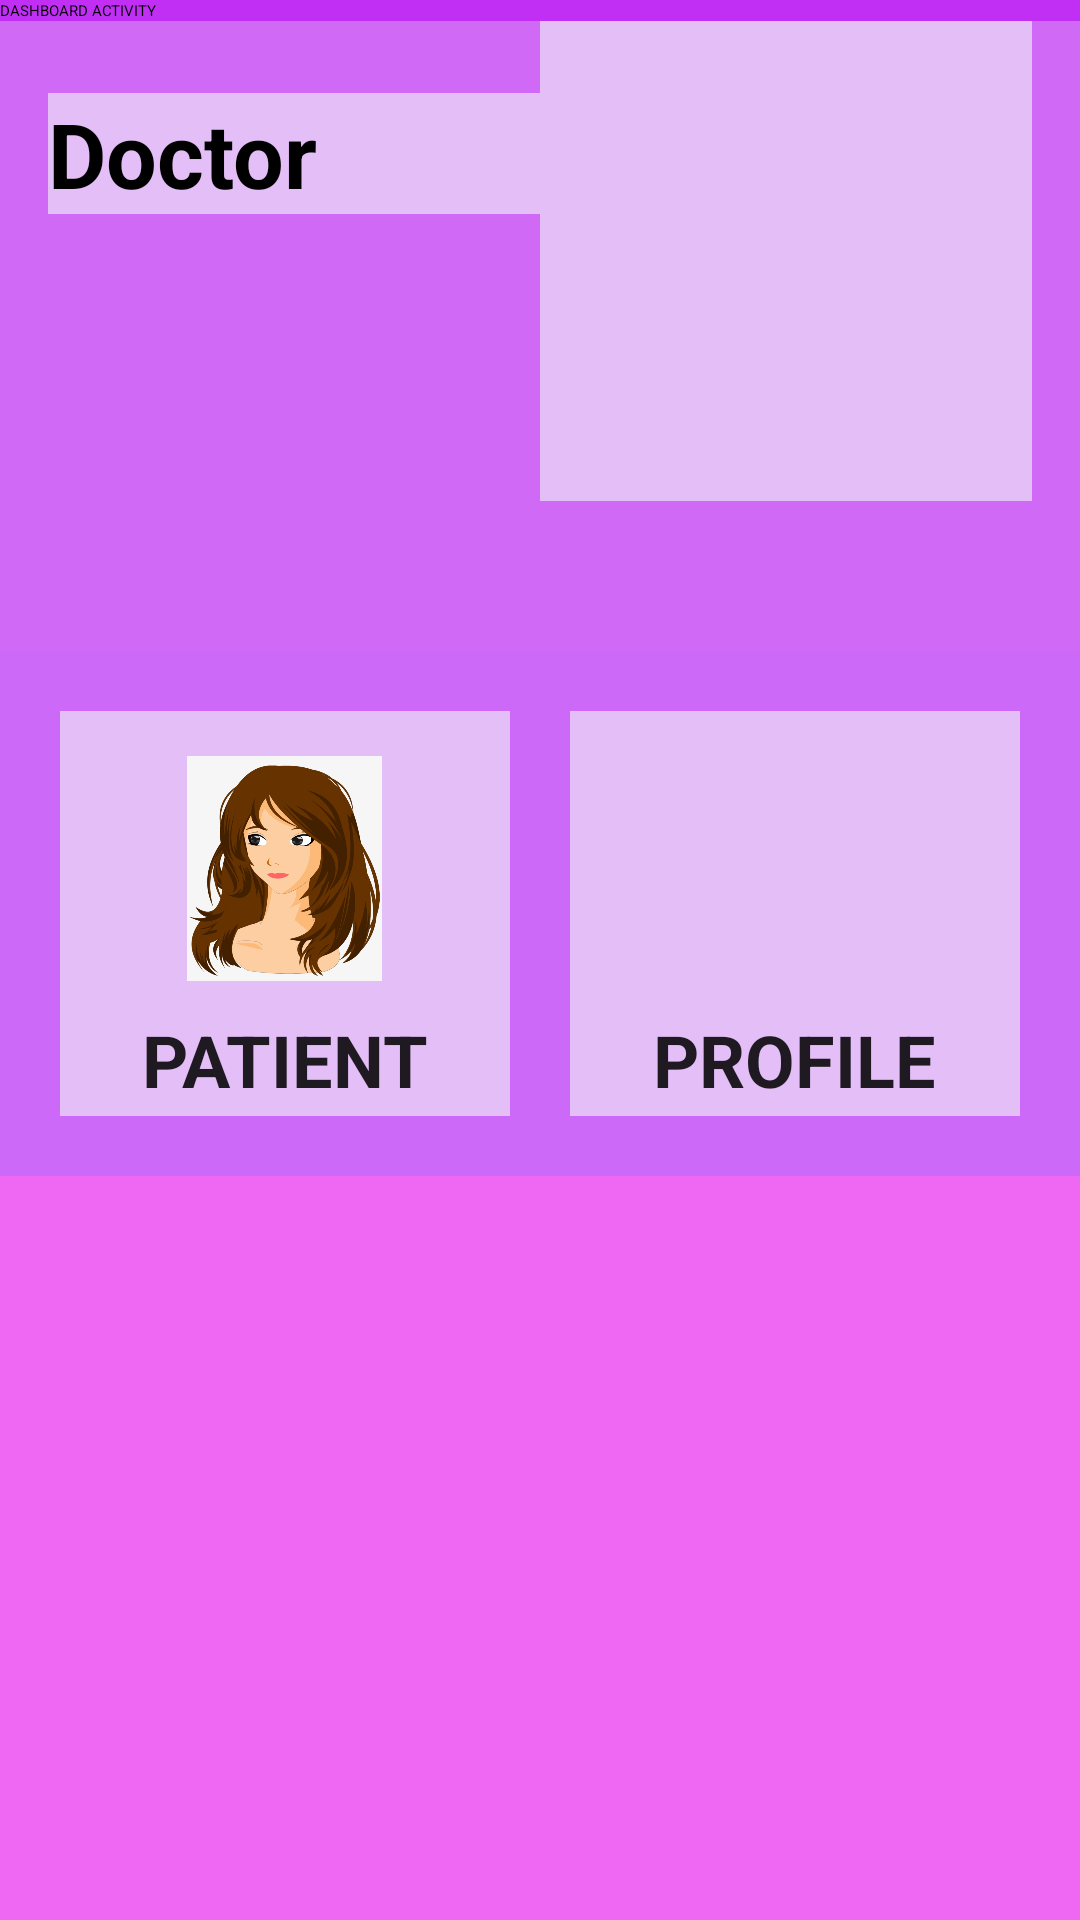

Screen size 1080 × 1920. Icon name, then its center in pixels as point (x, y):
girl: point (284, 868)
